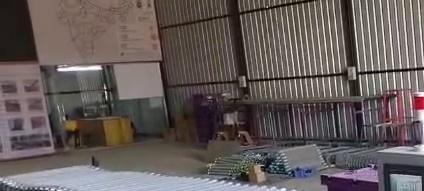box: (321, 167, 378, 190)
